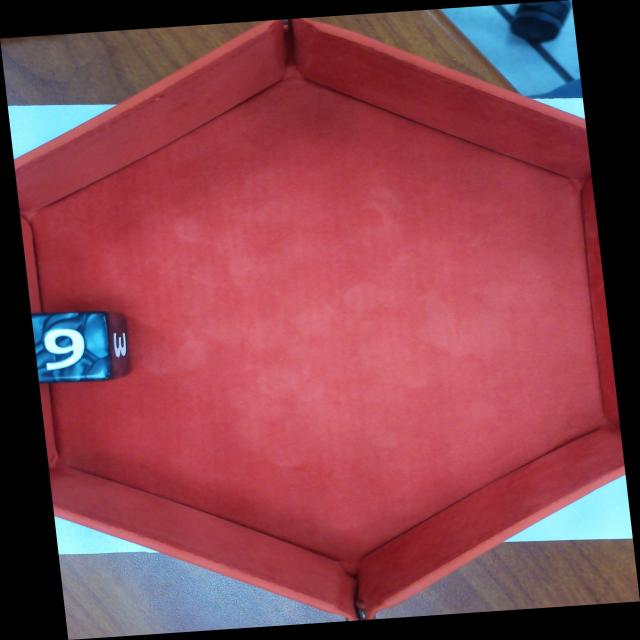dice: (31, 311, 112, 384)
